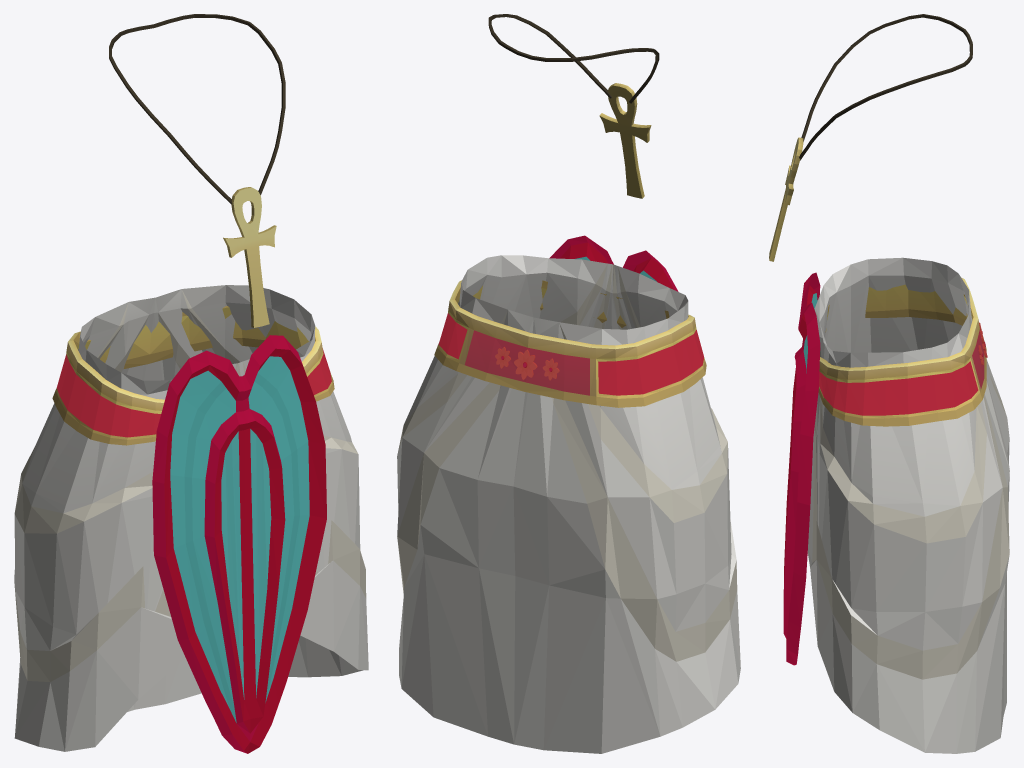
The model's file is pharaohServantArmorFemale.glb.
3 renders of one model, left to right at view 1: azimuth 30°, elevation 25°; view 2: azimuth 150°, elevation 25°; view 3: azimuth 270°, elevation 25°, orthographic. The views are drawn at different scales.
Visible parts, largest first — view 1: pharaohServantArmor; view 2: pharaohServantArmor; view 3: pharaohServantArmor.
Part boxes in pixels (<box>): pharaohServantArmor: <box>14,14,368,753</box>; pharaohServantArmor: <box>397,14,740,753</box>; pharaohServantArmor: <box>769,14,1009,753</box>.
Size of the model in its own units: 0.4751 by 0.9769 by 0.3238.
